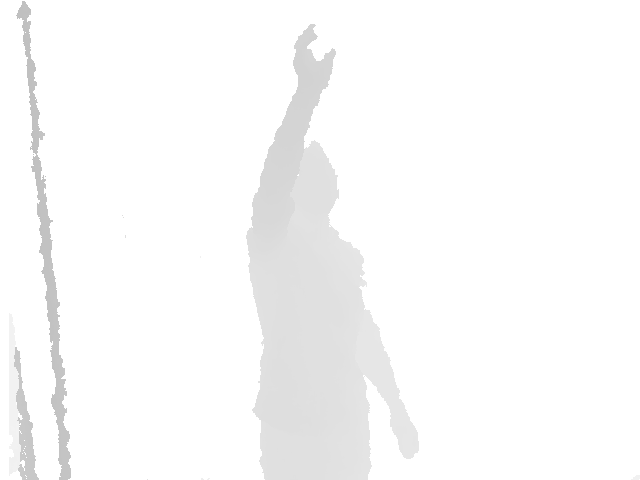hand: (292, 24, 337, 97)
hand_down: (387, 409, 421, 461)
head: (280, 141, 340, 216)
person: (245, 24, 421, 480)
